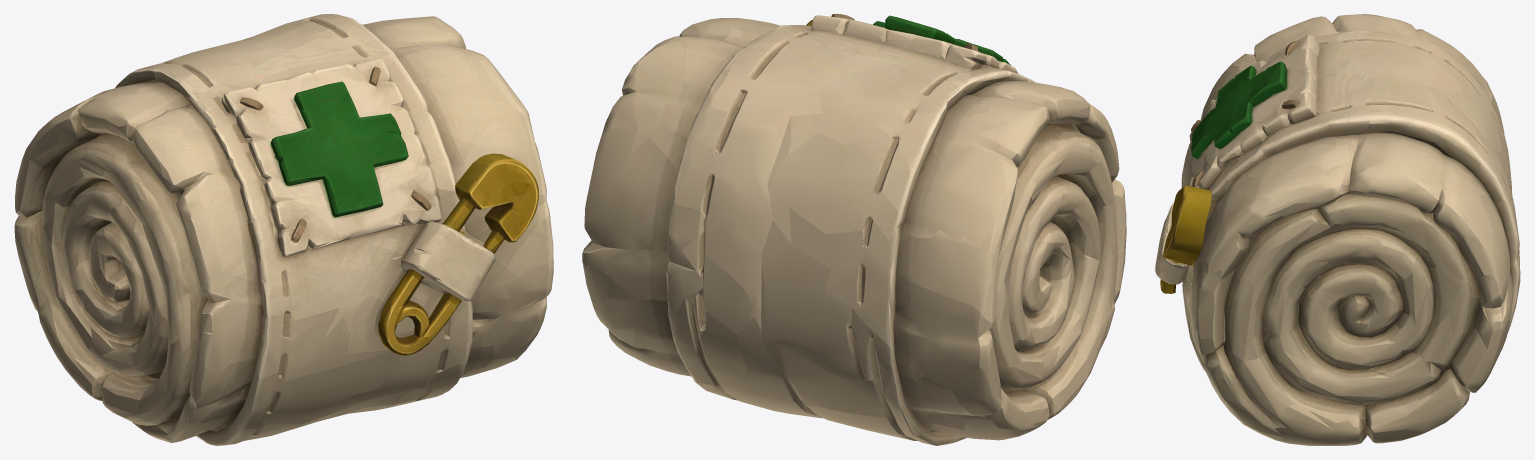
File: cons_bandage.glb
3 renders of one model, left to right at view 1: azimuth 30°, elevation 25°; view 2: azimuth 150°, elevation 25°; view 3: azimuth 270°, elevation 25°, orthographic. The views are drawn at different scales.
Visible parts, largest first — view 1: output_unwrapped; view 2: output_unwrapped; view 3: output_unwrapped.
Part boxes in pixels (x1,y1,x2,y2): output_unwrapped: (14,14,553,445); output_unwrapped: (582,14,1126,445); output_unwrapped: (1155,14,1520,445).
Size of the model in its own units: 1.9 by 1.6 by 1.69.
Materials: 1 (1 with a texture image).
